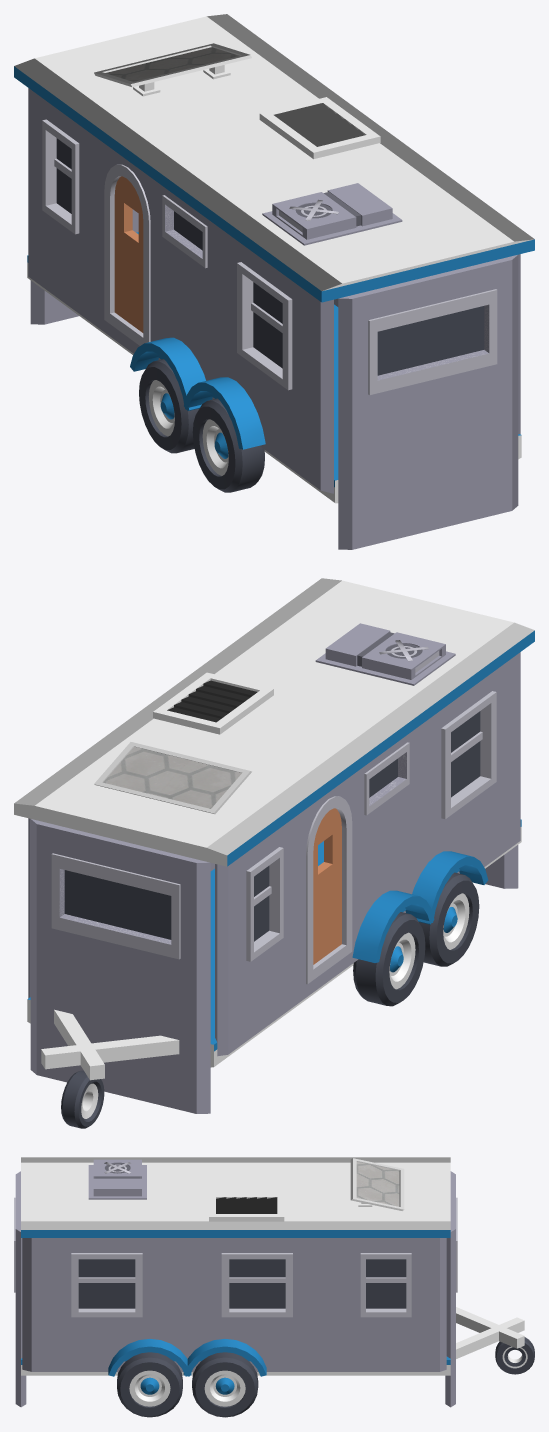
File: Caravan OBJ.obj
3 renders of one model, top to bottom at view 1: azimuth 30°, elevation 25°; view 2: azimuth 150°, elevation 25°; view 3: azimuth 270°, elevation 25°, orthographic. The views are drawn at different scales.
Visible parts, largest first — view 1: plane_tail_29, wall_windowFactory_76, wall_window_64, wall_window_59, door_round_35, wall_windowFactory_63, detail_airLarge_83, wall_straight_66, air_vent_81, wheel_colored_16, wall_straight_65, wheel_colored_17 (+10 smaller); view 2: plane_tail_29, wall_windowFactory_75, wall_window_64, wall_window_59, door_round_35, wall_windowFactory_63, detail_solarPanel_90, detail_airLarge_83, wall_straight_65, air_vent_81, wheel_colored_17, wall_straight_66 (+14 smaller); view 3: plane_tail_29, wall_window_69, wall_window_73, wall_window_72, wall_straight_71, wall_straight_70, wall_straight_74, wheel_colored_19, wheel_colored_18, detail_solarPanel_90, detail_airLarge_83, wall_windowFactory_75 (+8 smaller).
Part boxes in pixels (left/top/right/bottom): plane_tail_29: left=14, top=14, right=534, bottom=302; wall_windowFactory_76: left=338, top=255, right=518, bottom=549; wall_window_64: left=213, top=223, right=333, bottom=437; wall_window_59: left=28, top=88, right=97, bottom=270; door_round_35: left=104, top=164, right=150, bottom=345; wall_windowFactory_63: left=159, top=183, right=212, bottom=355; detail_airLarge_83: left=262, top=183, right=402, bottom=245; wall_straight_66: left=213, top=356, right=333, bottom=493; air_vent_81: left=259, top=97, right=380, bottom=159; wheel_colored_16: left=192, top=398, right=264, bottom=492; wall_straight_65: left=28, top=221, right=97, bottom=326; wheel_colored_17: left=139, top=359, right=199, bottom=453; plane_tail_29: left=14, top=578, right=534, bottom=866; wall_windowFactory_75: left=30, top=819, right=210, bottom=1113; wall_window_64: left=413, top=652, right=520, bottom=863; wall_window_59: left=215, top=815, right=297, bottom=1000; door_round_35: left=306, top=796, right=352, bottom=984; wall_windowFactory_63: left=359, top=731, right=412, bottom=902; detail_solarPanel_90: left=94, top=742, right=251, bottom=814; detail_airLarge_83: left=315, top=623, right=455, bottom=685; wall_straight_65: left=215, top=948, right=297, bottom=1056; air_vent_81: left=153, top=672, right=273, bottom=734; wheel_colored_17: left=353, top=912, right=425, bottom=1006; wall_straight_66: left=413, top=785, right=520, bottom=890; plane_tail_29: left=21, top=1157, right=450, bottom=1237; wall_window_69: left=22, top=1238, right=182, bottom=1332; wall_window_73: left=182, top=1238, right=332, bottom=1332; wall_window_72: left=332, top=1238, right=446, bottom=1332; wall_straight_71: left=332, top=1331, right=446, bottom=1371; wall_straight_70: left=22, top=1331, right=182, bottom=1371; wall_straight_74: left=182, top=1333, right=332, bottom=1371; wheel_colored_19: left=192, top=1352, right=258, bottom=1417; wheel_colored_18: left=117, top=1352, right=182, bottom=1417; detail_solarPanel_90: left=350, top=1158, right=404, bottom=1210; detail_airLarge_83: left=88, top=1159, right=146, bottom=1199; wall_windowFactory_75: left=445, top=1171, right=457, bottom=1407.
Size of the model in its own units: 1.84 by 2.05 by 4.85.
Materials: 19 (1 with a texture image).
